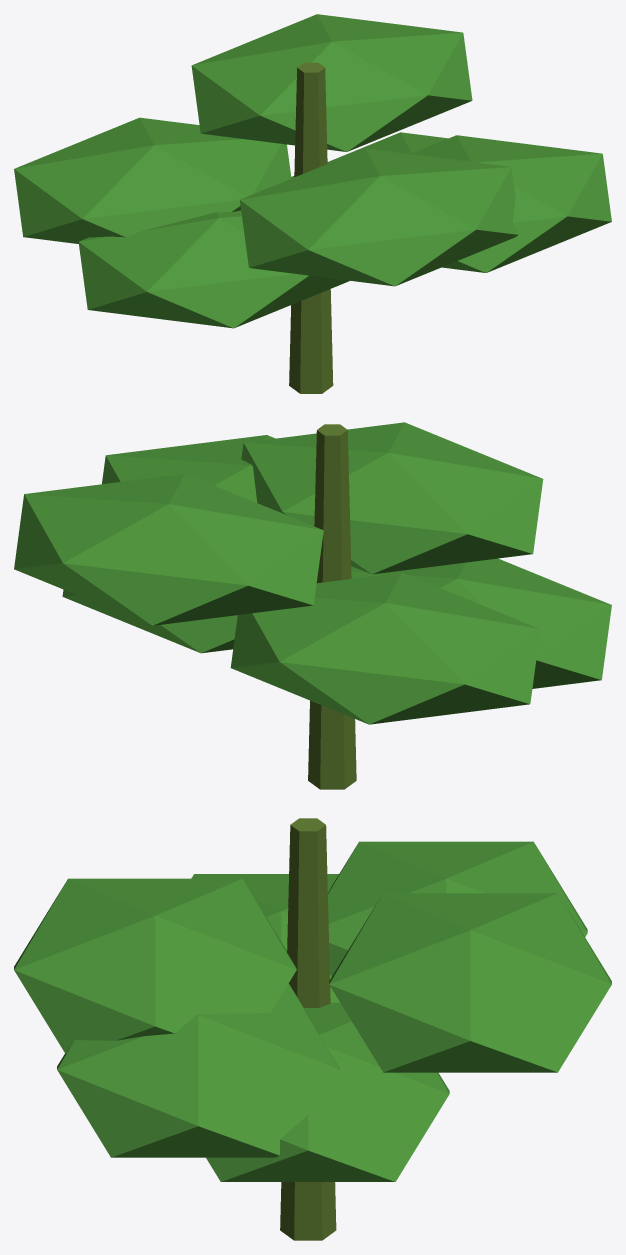
Rendered from f05-terong-2.glb.
The picture shows the model from 3 angles, top to bottom: view 1: azimuth 30°, elevation 25°; view 2: azimuth 150°, elevation 25°; view 3: azimuth 270°, elevation 25°; orthographic projection. The views are drawn at different scales.
Visible parts, largest first — view 1: EX_kebun:daun.002, EX_kebun:batang.004; view 2: EX_kebun:daun.002, EX_kebun:batang.004; view 3: EX_kebun:daun.002, EX_kebun:batang.004.
Part boxes in pixels (<box>): EX_kebun:daun.002: <box>14,14,611,328</box>; EX_kebun:batang.004: <box>289,62,333,393</box>; EX_kebun:daun.002: <box>14,422,611,724</box>; EX_kebun:batang.004: <box>308,424,356,789</box>; EX_kebun:daun.002: <box>14,841,611,1181</box>; EX_kebun:batang.004: <box>280,818,336,1240</box>.
Size of the model in its own units: 0.5555 by 0.35 by 0.4677.
